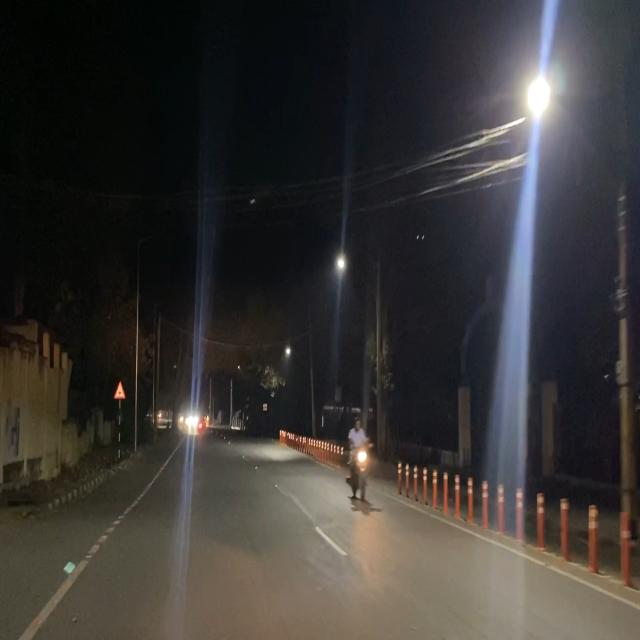bien_cam: (114, 377, 126, 400)
